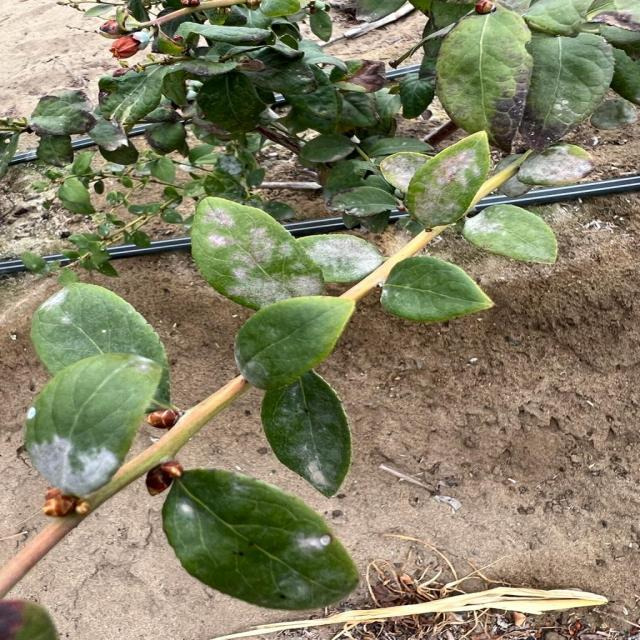Hojas con oidiosis: (159, 466, 368, 612), (19, 350, 162, 501), (186, 193, 332, 314), (258, 357, 352, 497), (222, 294, 360, 388), (402, 126, 492, 232), (374, 252, 495, 324), (460, 204, 559, 266), (516, 143, 599, 188)
